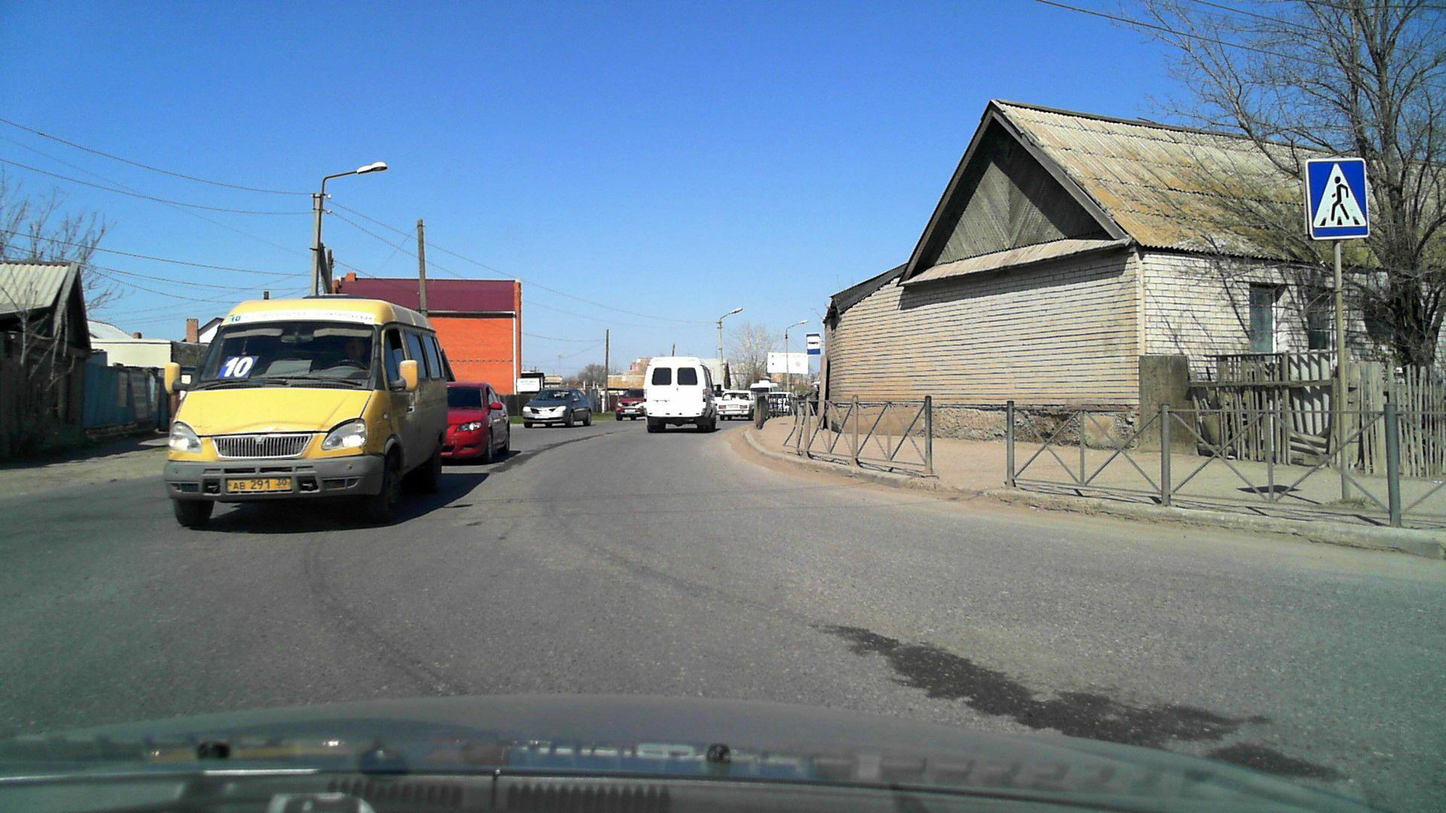road_sign: (1304, 158, 1369, 241)
